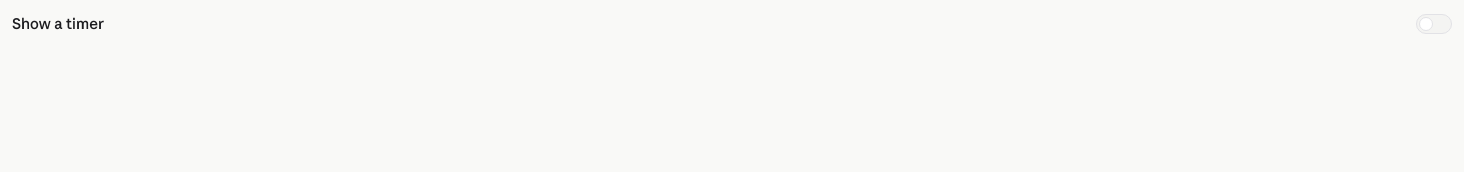
Test: Toggle flips with click and Space
This screenshot has width=1464, height=172.
Step 1. Click the switch named "Show a timer" → (1434, 24), box [1416,14,1452,34]
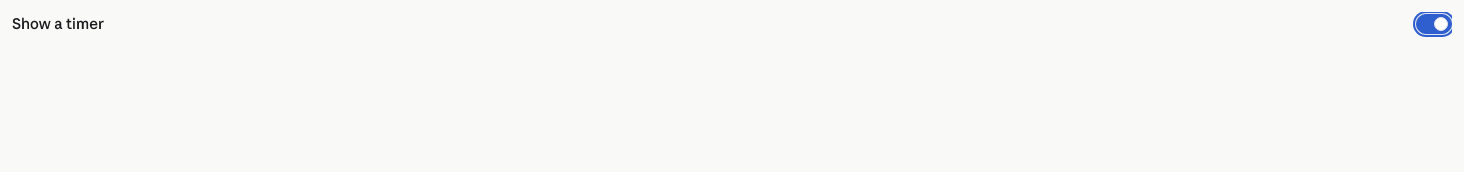
Expected: the switch named "Show a timer" is checked, [1416,14,1452,34]
Step 2. Type keys " "
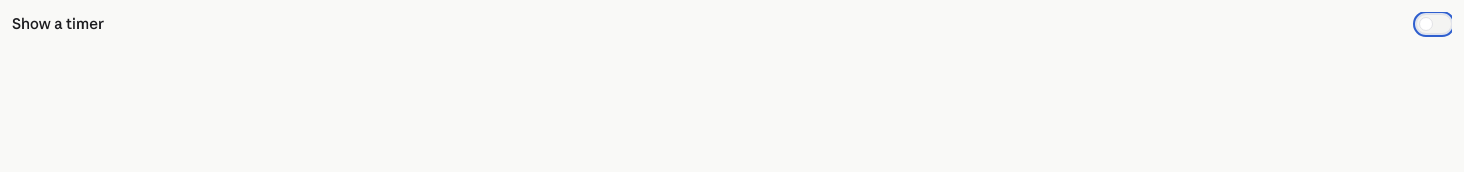
Expected: the switch named "Show a timer" is not checked, [1416,14,1452,34]
